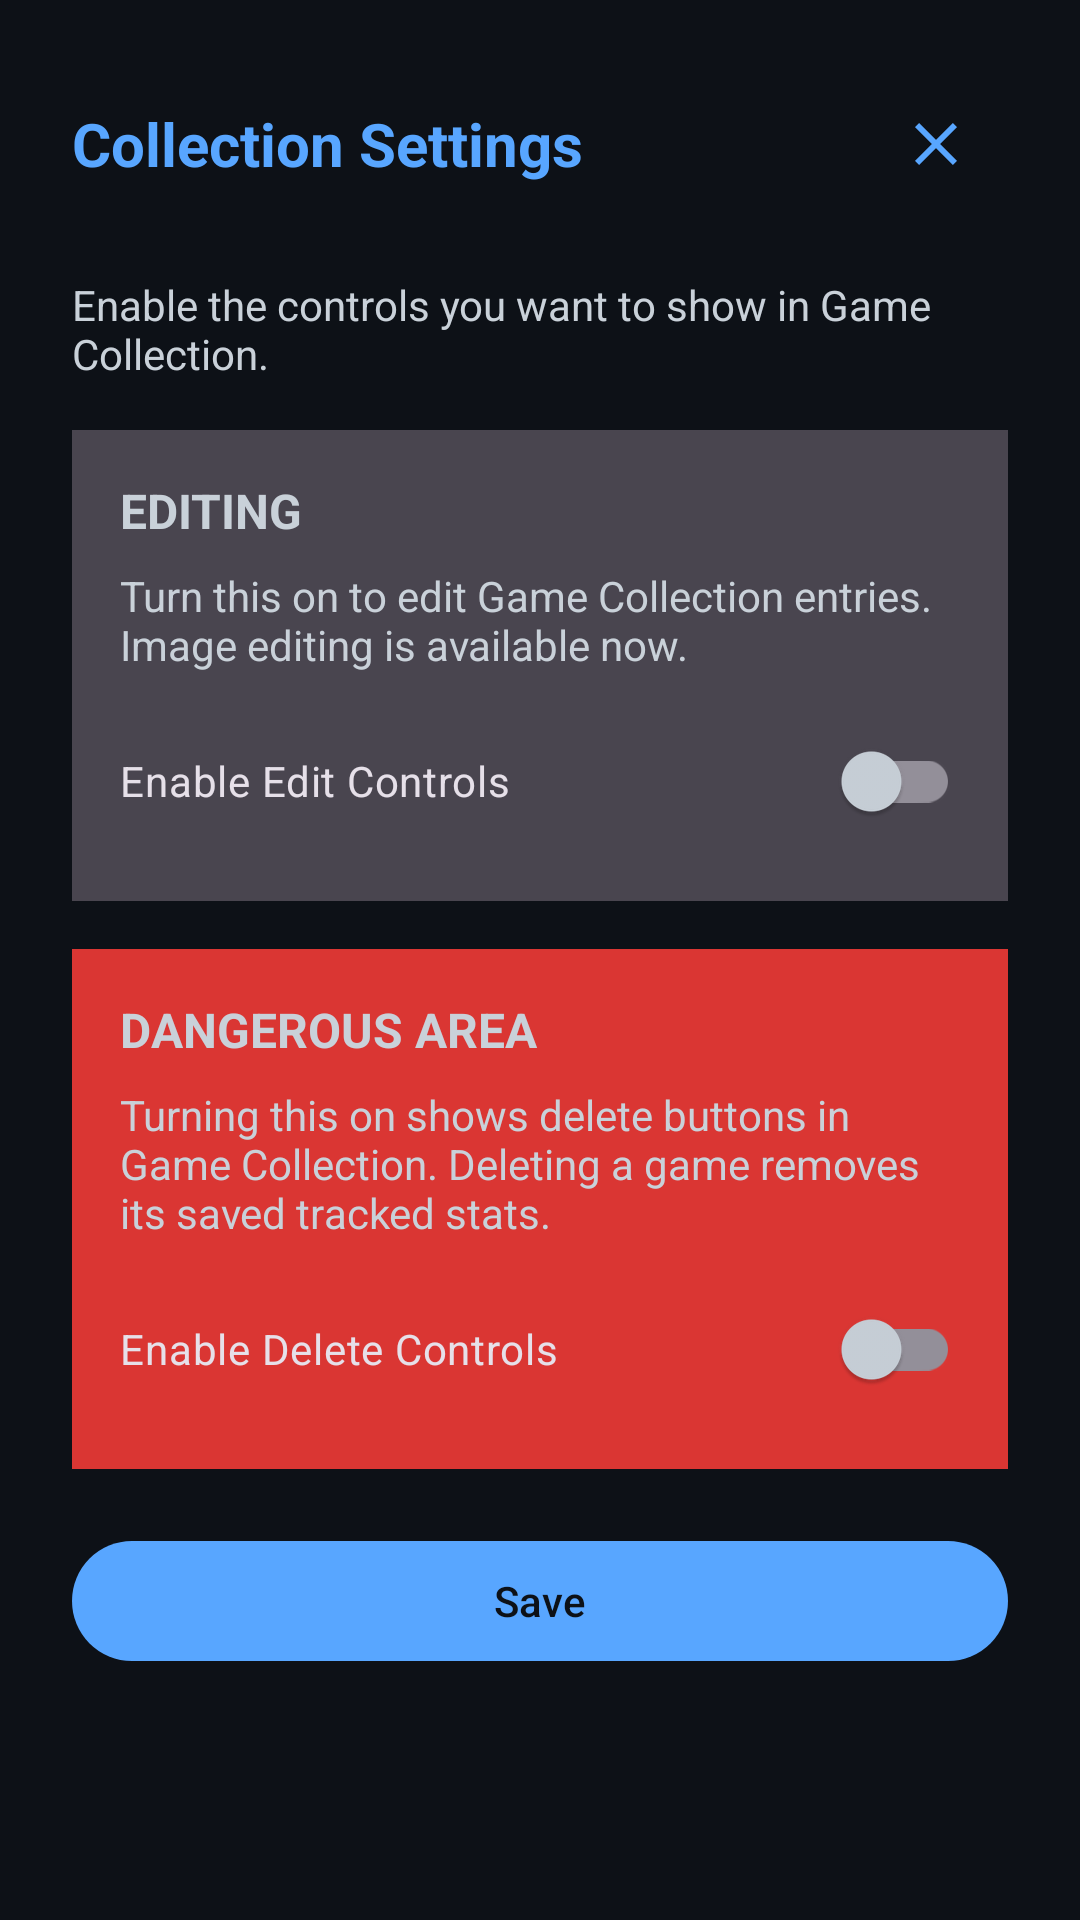

Icon click points for this 1080w x 1920h phone screenshot, format (x=x, y=y):
Close: (x=936, y=144)
